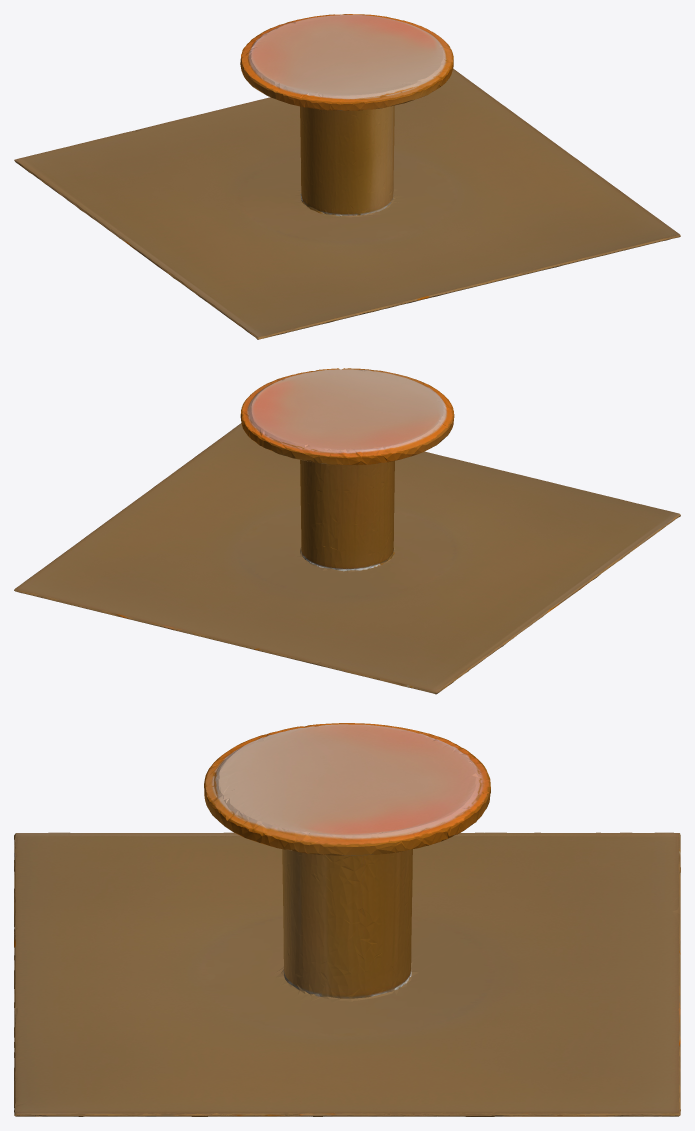
File: hunyuan3d_textured.obj
3 views of the same model, one above another, from view 1: azimuth 30°, elevation 25°; view 2: azimuth 150°, elevation 25°; view 3: azimuth 270°, elevation 25° (orthographic). The views are drawn at different scales.
Visible parts, largest first — view 1: hunyuan3d_textured; view 2: hunyuan3d_textured; view 3: hunyuan3d_textured.
Boxes of the visible parts, x1,y1,x2,y2 form: hunyuan3d_textured: [14, 14, 680, 339]; hunyuan3d_textured: [14, 368, 680, 694]; hunyuan3d_textured: [14, 723, 680, 1116].
Bounding box in the file's own units: 2 × 0.6506 × 2.
Materials: 1 (1 with a texture image).
